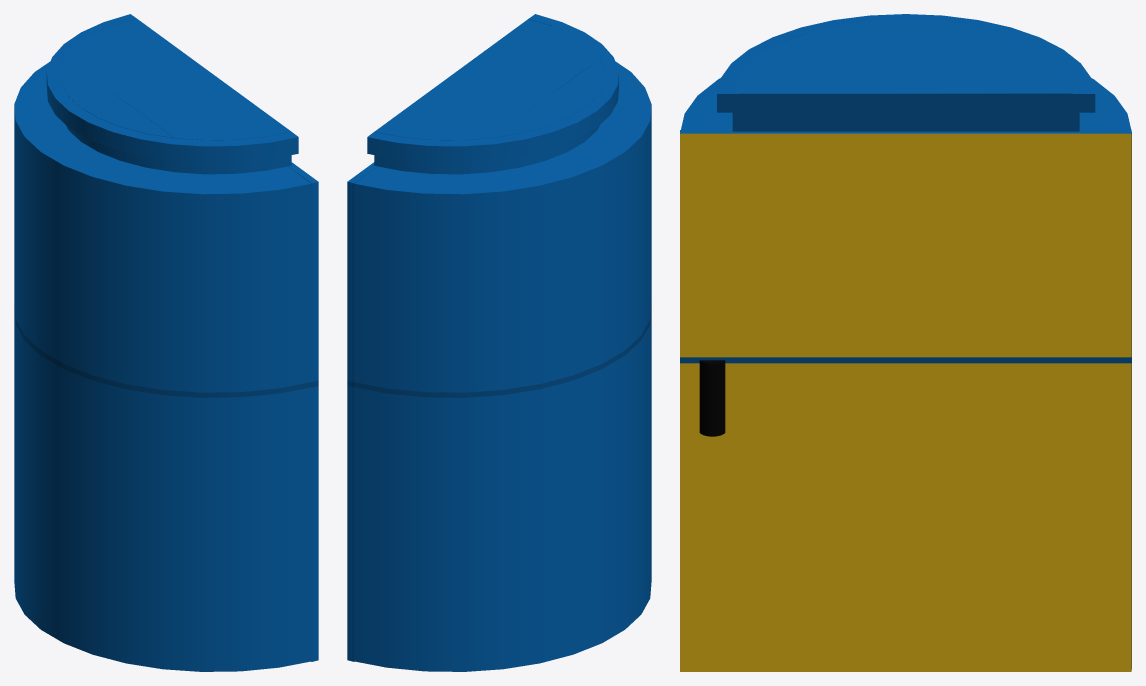
File: Pipa Ekspansi.fbx
The picture shows the model from 3 angles, left to right: view 1: azimuth 30°, elevation 25°; view 2: azimuth 150°, elevation 25°; view 3: azimuth 270°, elevation 25°; orthographic projection. The views are drawn at different scales.
Parts seen in each view (by area): view 1: 1/2 Digester, 1/2 Plane; view 2: 1/2 Digester, 1/2 Plane; view 3: 1/2 Plane, 1/2 Digester, Pipa Ekspansi.
Boxes of the visible parts, x1,y1,x2,y2 form: 1/2 Digester: [14, 14, 311, 671]; 1/2 Plane: [146, 117, 318, 661]; 1/2 Digester: [351, 14, 651, 671]; 1/2 Plane: [347, 99, 544, 661]; 1/2 Plane: [680, 130, 1131, 671]; 1/2 Digester: [681, 14, 1131, 669]; Pipa Ekspansi: [699, 360, 725, 436].
Bounding box in the file's own units: 132 × 352 × 250.
